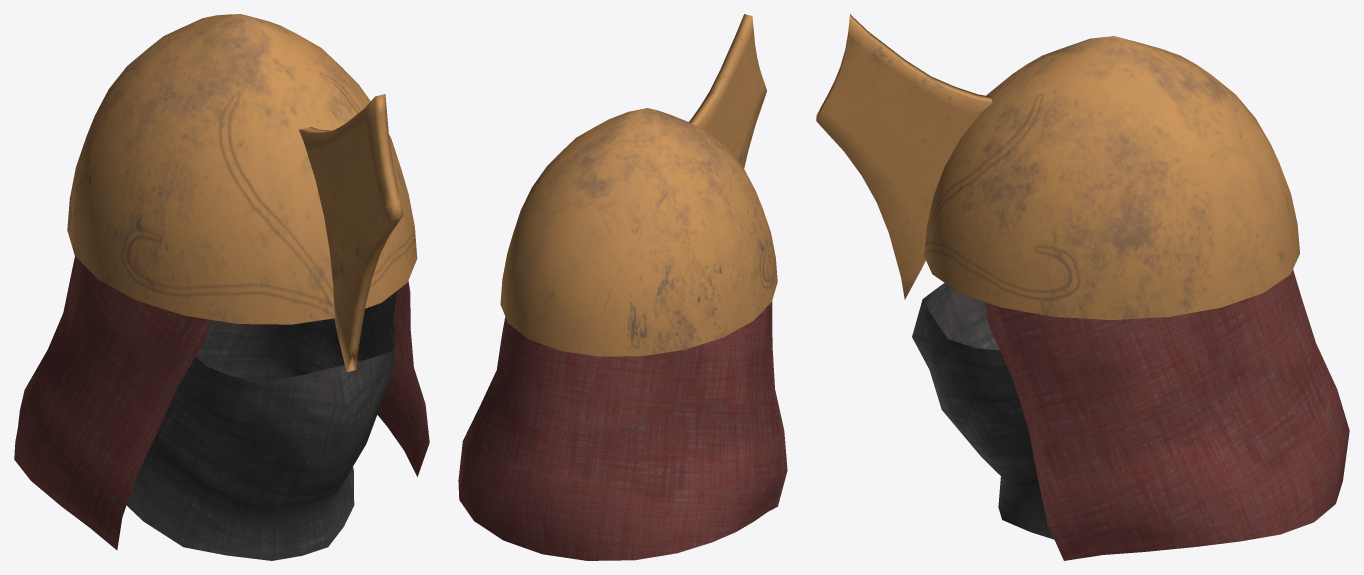
Rendered from easterlingwarriors04_helmet.fbx.
3 renders of one model, left to right at view 1: azimuth 30°, elevation 25°; view 2: azimuth 150°, elevation 25°; view 3: azimuth 270°, elevation 25°, orthographic. The views are drawn at different scales.
Visible parts, largest first — view 1: easterlingwarriors04_helmet; view 2: easterlingwarriors04_helmet; view 3: easterlingwarriors04_helmet.
Boxes of the visible parts, x1=… form: easterlingwarriors04_helmet: x1=14, y1=14, x2=429, y2=560; easterlingwarriors04_helmet: x1=458, y1=14, x2=787, y2=560; easterlingwarriors04_helmet: x1=816, y1=14, x2=1349, y2=560.
Bounding box in the file's own units: 0.26 × 0.3733 × 0.3789.
1 material, 1 textured.
